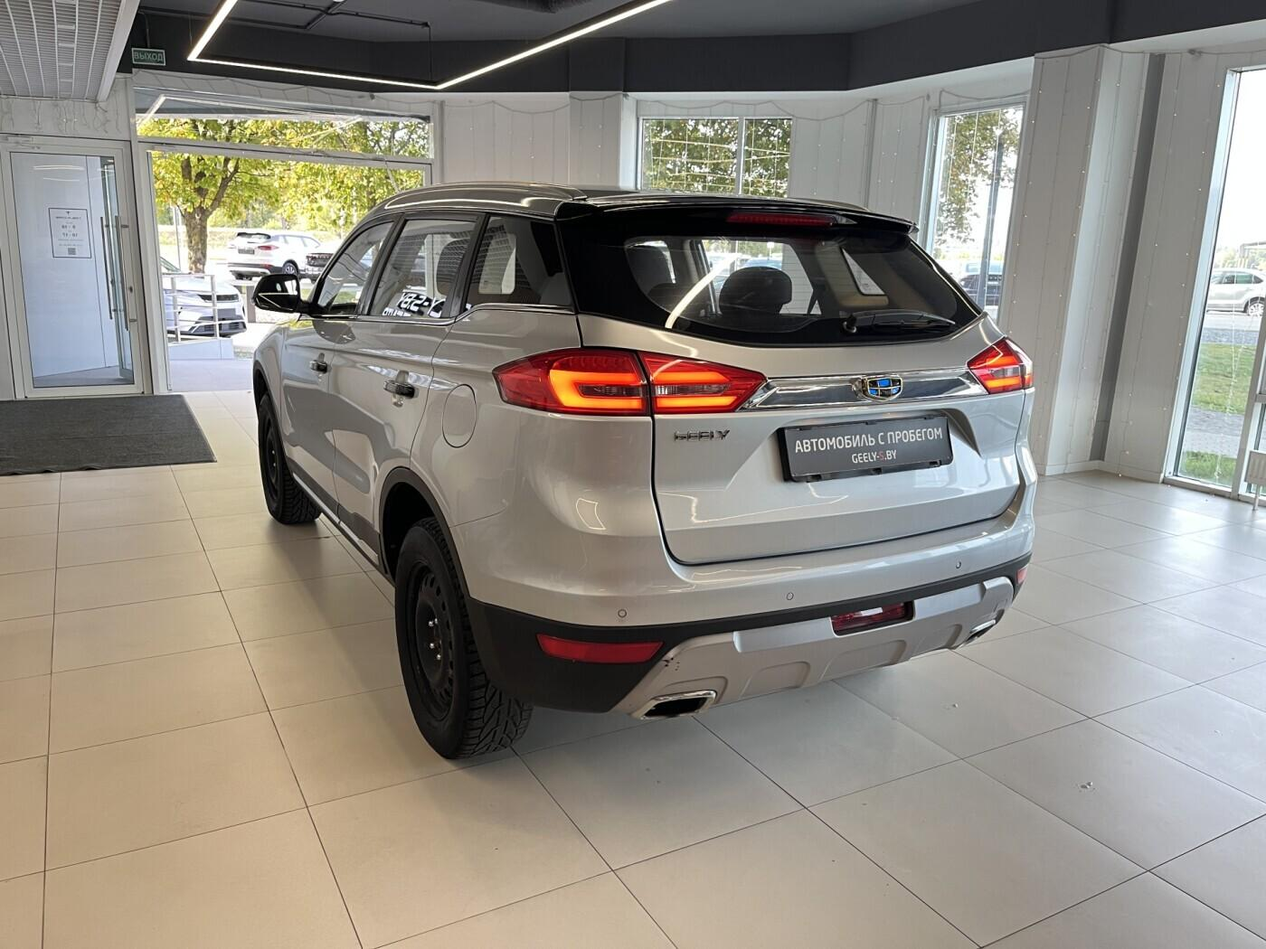Atlas_2016-2023: (248, 178, 1049, 763)
